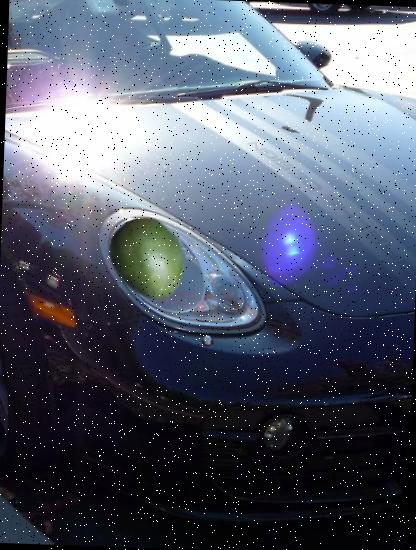Mango: (103, 216, 193, 306)
